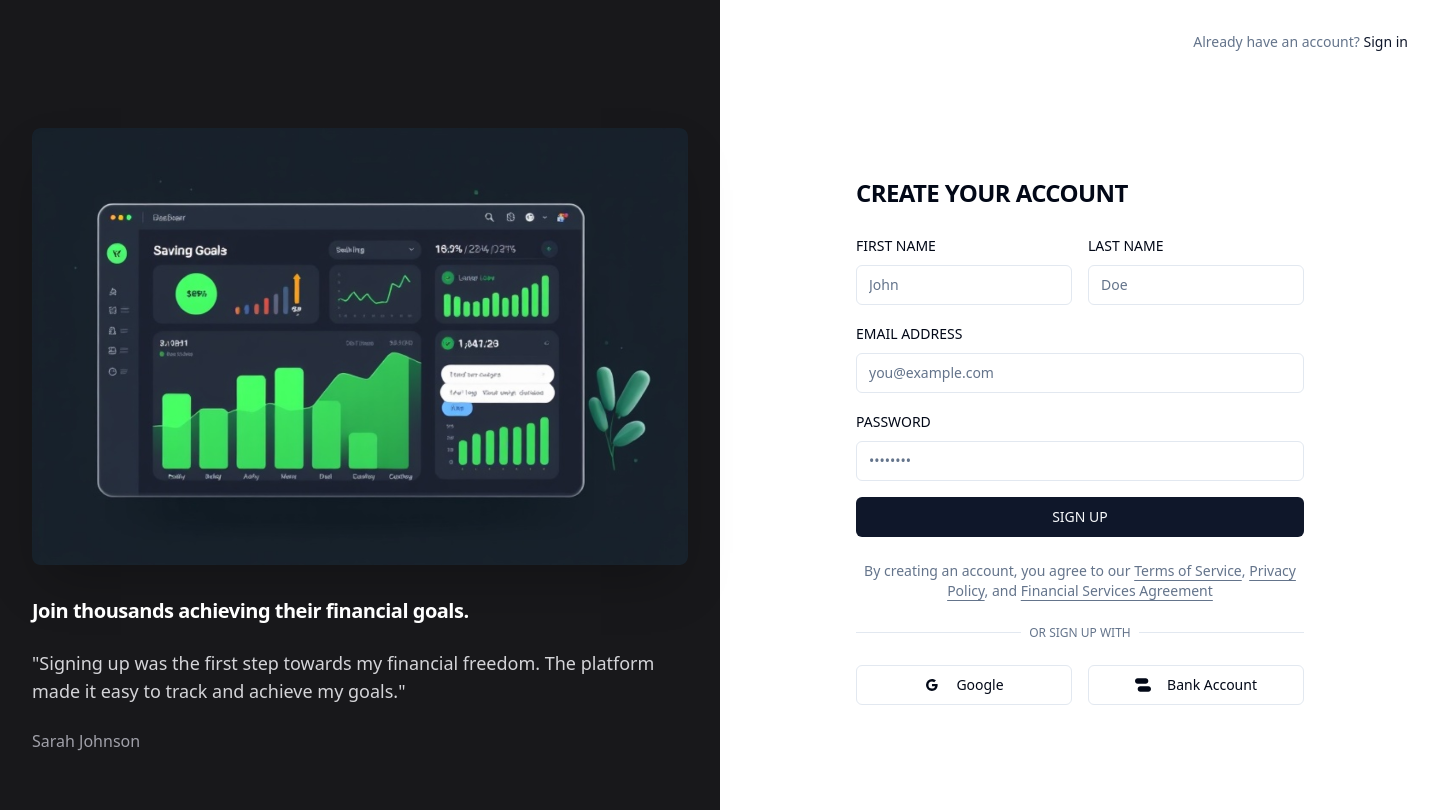
Test case: Register › should validate name length
The image size is (1440, 810).
Type "J" into the field labelled "FIRST NAME" at (964, 285), box [856,265,1072,305]
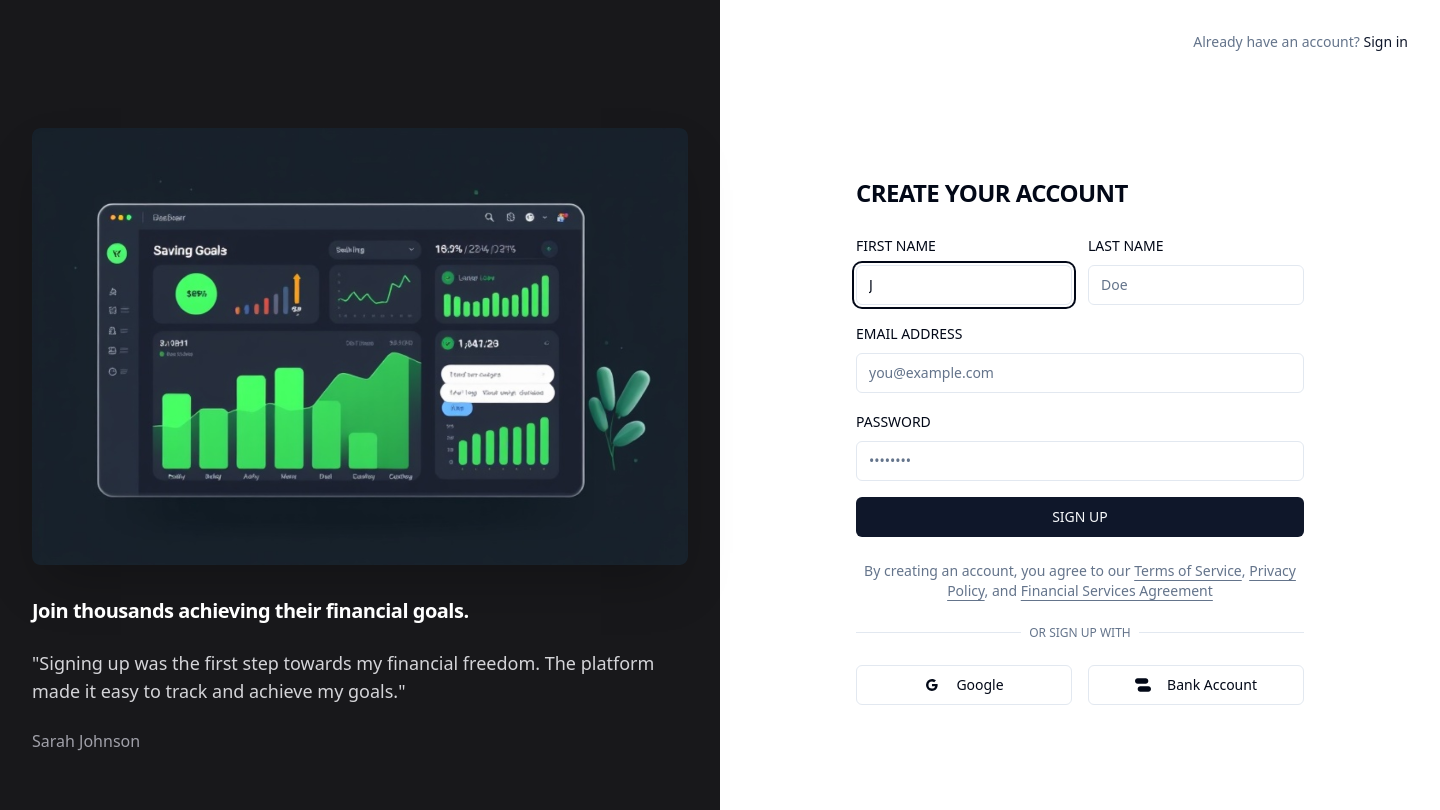
Click the button "SIGN UP" at (1080, 517), box [856,497,1304,537]
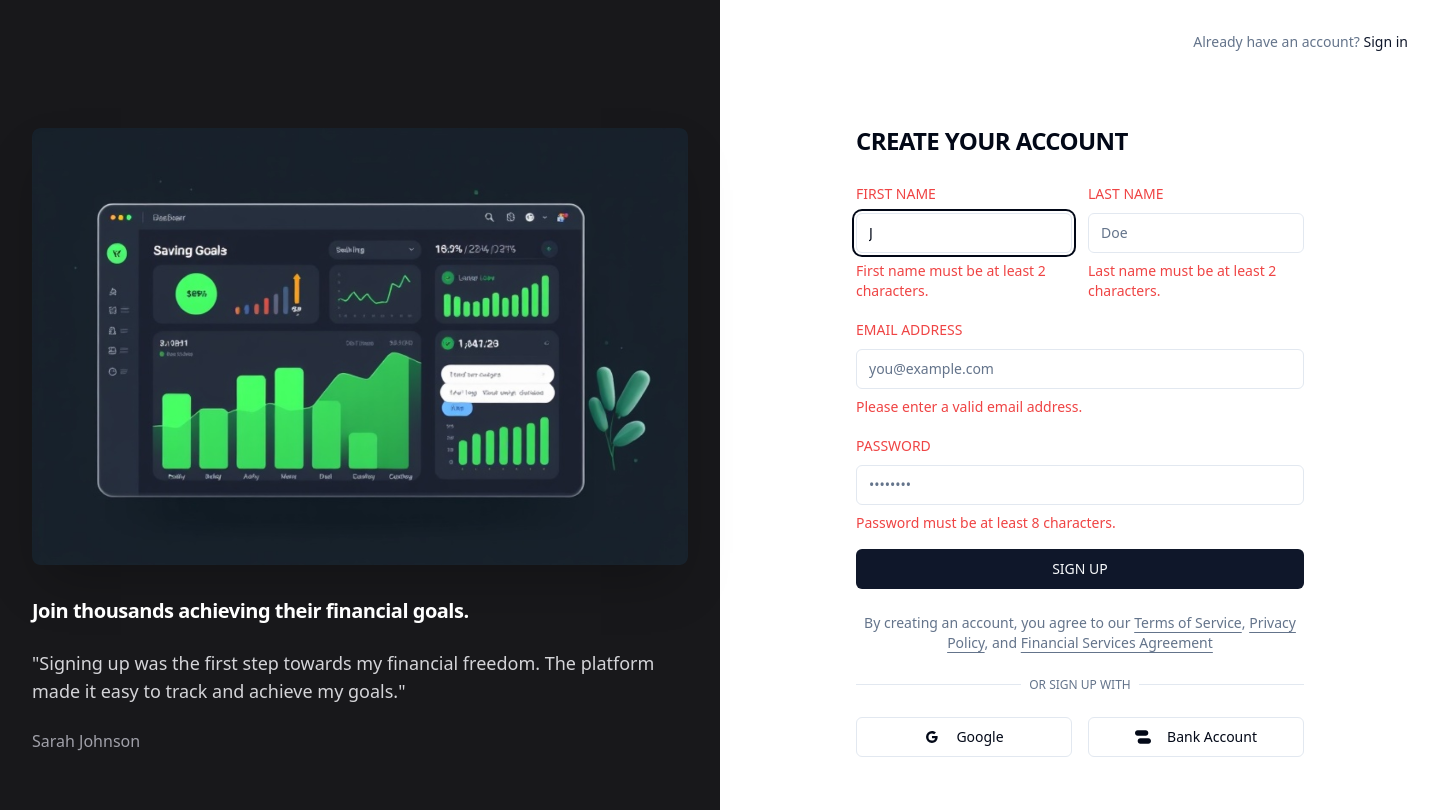
Expected: the text "First name must be at least 2 characters." is shown, [856,261,1072,301]
